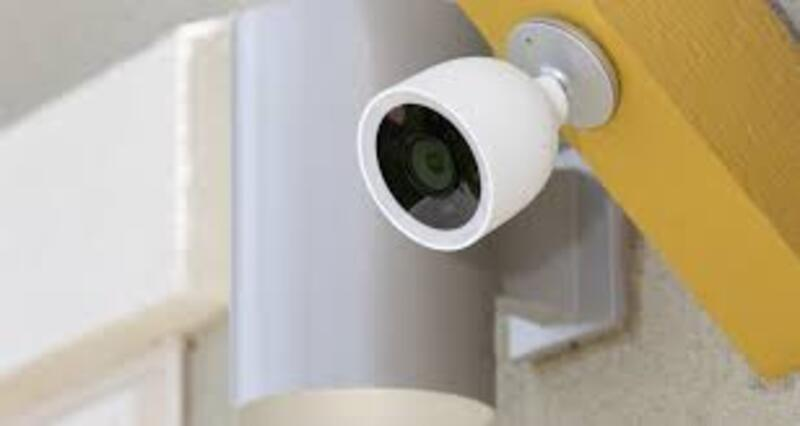nest: (329, 37, 570, 255)
